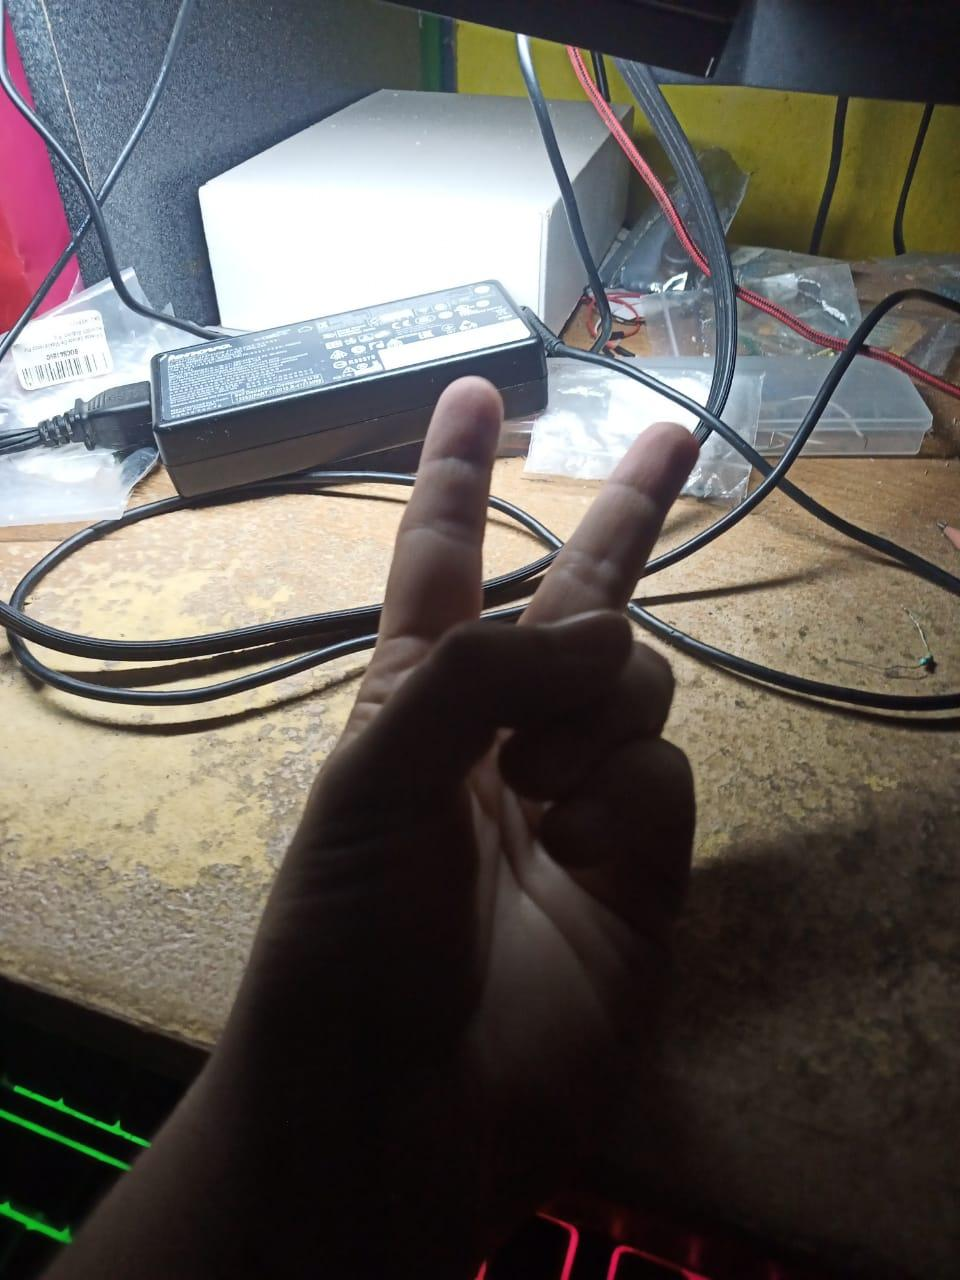Scissor: (39, 380, 698, 1280)
